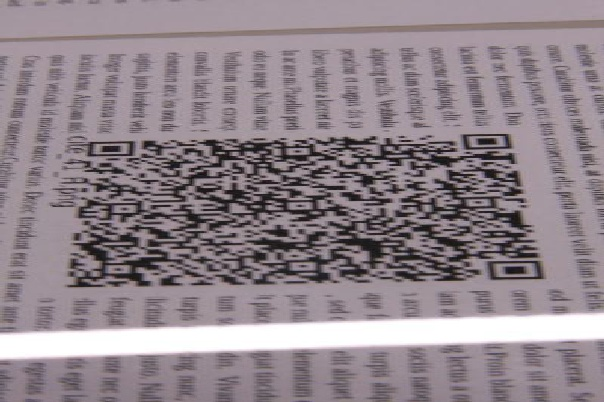code: (65, 133, 543, 288)
